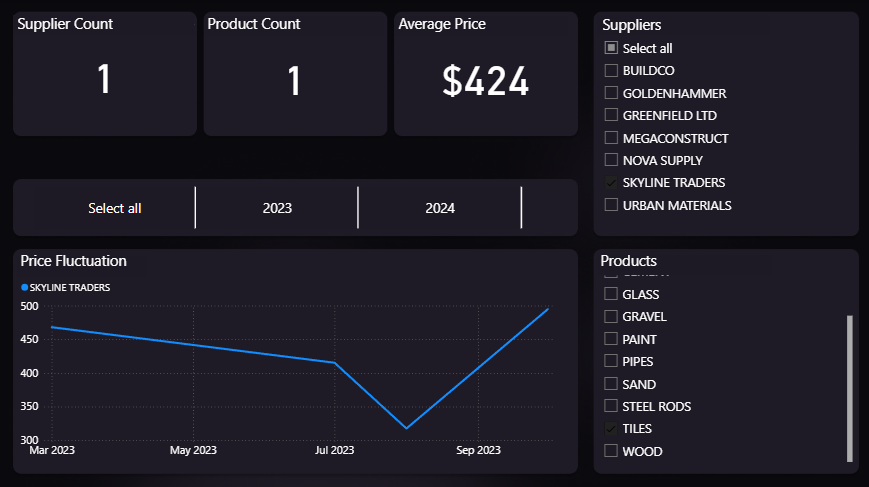

The page's visual inventory and layout, read from the dashboard file:
{"tool":"powerbi","page":{"name":"Price Fluctuation","canvas":[1280,720],"ordinal":0},"visuals":[{"type":"lineChart","fields":{"Category":["Monthly_Max.Date.Variation.Date Hierarchy.Year","Monthly_Max.Date.Variation.Date Hierarchy.Month"],"Y":["Max(Monthly_Max.Price)"],"Series":["Monthly_Max.Supplier"]},"box":[26.9,401.5,818.1,280.5],"z":0},{"type":"slicer","fields":{"Values":["Monthly_Max.Product"]},"box":[876.7,393.3,381.7,290],"z":1000},{"type":"slicer","fields":{"Values":["Monthly_Max.Date.Variation.Date Hierarchy.Year"]},"box":[26.4,267.4,765.6,74.9],"z":2000},{"type":"shape","box":[27.1,376.5,190.6,30.6],"z":3000},{"type":"shape","box":[21.2,22.7,266.7,30.3],"z":4000},{"type":"shape","box":[302.5,23.1,264.4,30],"z":5000},{"type":"shape","box":[582.5,23.1,254.4,30],"z":6000},{"type":"shape","box":[879.4,21.9,254.4,30],"z":7000},{"type":"shape","box":[880,375,255,30],"z":8000},{"type":"textbox","box":[22.7,15.2,239.4,37.9],"z":9000},{"type":"textbox","box":[301.5,15.4,240,37.7],"z":10000},{"type":"textbox","box":[582.3,15.4,240,37.7],"z":11000},{"type":"textbox","box":[881.1,15.6,240,37.8],"z":12000},{"type":"textbox","box":[878.9,363.3,240,37.8],"z":13000},{"type":"slicer","fields":{"Values":["Monthly_Max.Supplier"]},"box":[876.7,48.3,381.7,290],"z":14000},{"type":"textbox","box":[26.7,363.3,240,38.3],"z":15000},{"type":"card","fields":{"Values":["Monthly_Max.Supplier Count"]},"box":[22.7,22.7,265.2,171.2],"z":16000},{"type":"card","fields":{"Values":["Monthly_Max.Product Count"]},"box":[303.3,20,263.3,180],"z":17000},{"type":"card","fields":{"Values":["Monthly_Max.Average Price"]},"box":[583.3,20,263.3,180],"z":18000}]}

Visuals, with their boxes in screenshot pixels (x1, y1, x2, y2), scaled from the page's 1280x720 canvas onto the 869x487 screenshot:
lineChart - Monthly_Max.Date.Variation.Date Hierarchy.Year x Monthly_Max.Date.Variation.Date Hierarchy.Month: locate(18, 272, 574, 461)
slicer - Monthly_Max.Product: locate(595, 266, 854, 462)
slicer - Monthly_Max.Date.Variation.Date Hierarchy.Year: locate(18, 181, 538, 232)
shape: locate(18, 255, 148, 275)
shape: locate(14, 15, 195, 36)
shape: locate(205, 16, 385, 36)
shape: locate(395, 16, 568, 36)
shape: locate(597, 15, 770, 35)
shape: locate(597, 254, 771, 274)
textbox: locate(15, 10, 178, 36)
textbox: locate(205, 10, 368, 36)
textbox: locate(395, 10, 558, 36)
textbox: locate(598, 11, 761, 36)
textbox: locate(597, 246, 760, 271)
slicer - Monthly_Max.Supplier: locate(595, 33, 854, 229)
textbox: locate(18, 246, 181, 272)
card - Monthly_Max.Supplier Count: locate(15, 15, 195, 131)
card - Monthly_Max.Product Count: locate(206, 14, 385, 135)
card - Monthly_Max.Average Price: locate(396, 14, 575, 135)
